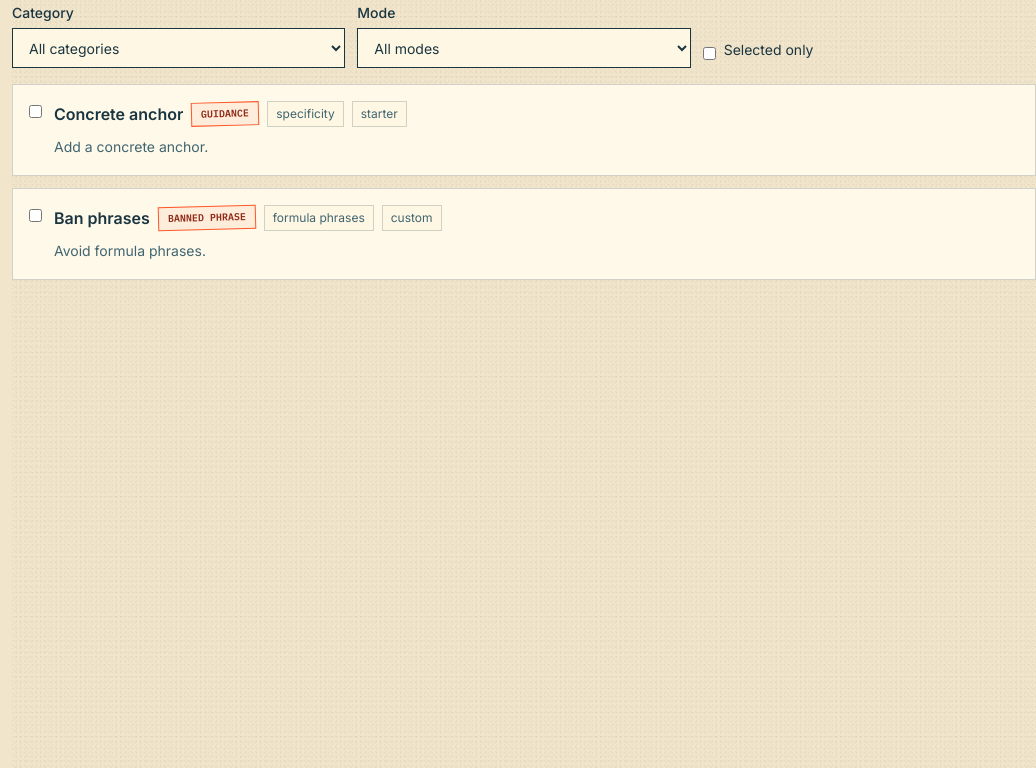
RuleList › filters by mode
The width and height of the screenshot is (1036, 768).
Select "banned phrase" in the dropdown labelled "Mode" at [524, 48], box 357,28 -> 691,68
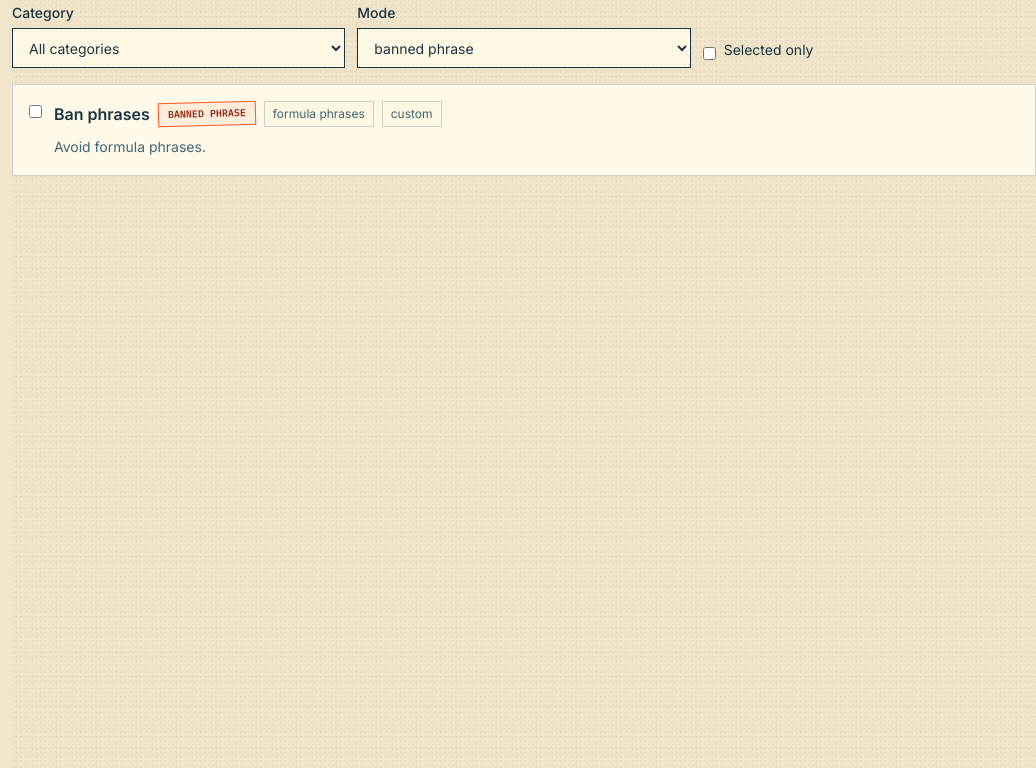
Check: the heading "Ban phrases" is shown, box 54,102 -> 150,126
Check: the heading "Concrete anchor" is gone
